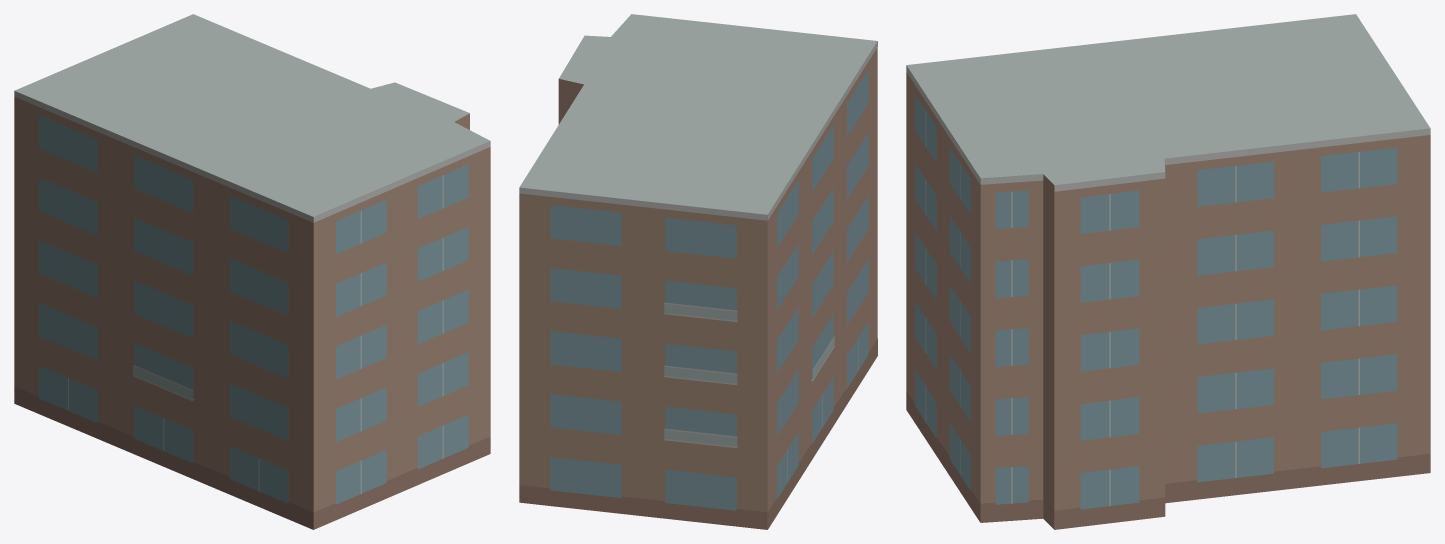
The model's file is survey-upis-32933735.glb.
3 views of the same model, side by side, from view 1: azimuth 30°, elevation 25°; view 2: azimuth 150°, elevation 25°; view 3: azimuth 270°, elevation 25° (orthographic). The views are drawn at different scales.
Parts seen in each view (by area): view 1: survey-upis-32933735.tmp; view 2: survey-upis-32933735.tmp; view 3: survey-upis-32933735.tmp.
Part boxes in pixels (x1,y1,x2,y2): survey-upis-32933735.tmp: (14,14,490,529); survey-upis-32933735.tmp: (519,14,877,529); survey-upis-32933735.tmp: (906,14,1430,529).
Size of the model in its own units: 13.87 by 13 by 17.94.
